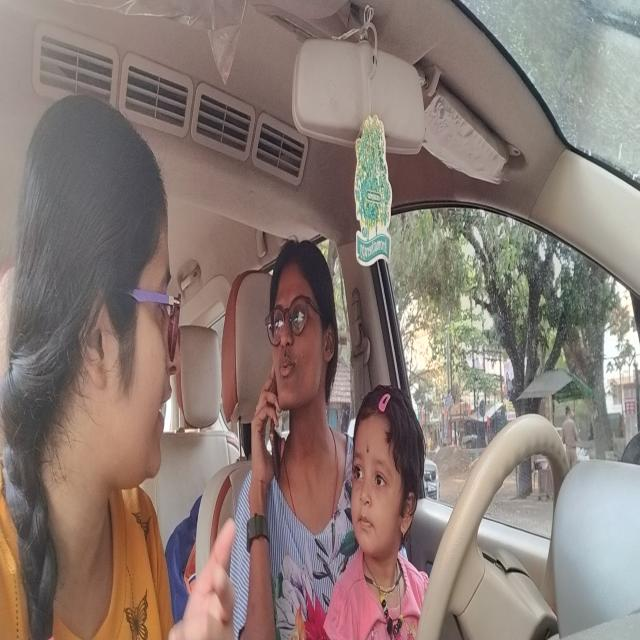LeftRight: (269, 250, 335, 420)
child: (344, 395, 414, 559)
mobile: (270, 396, 285, 486)
person: (76, 107, 179, 495)
